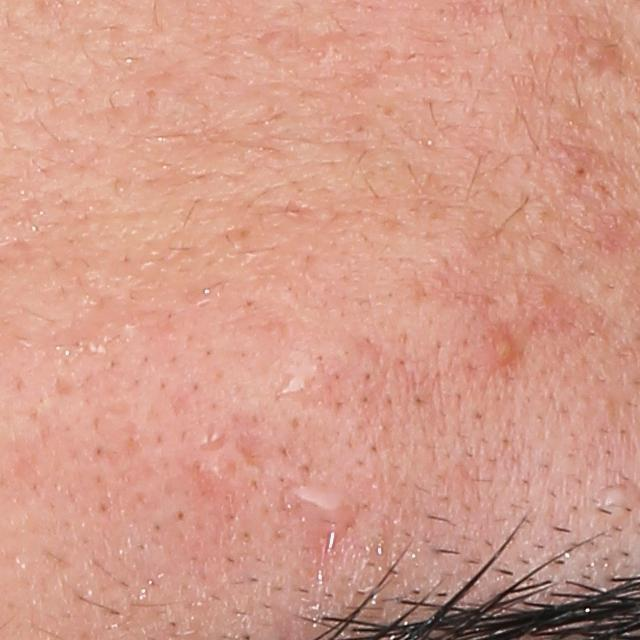comedo: (569, 161, 591, 180)
